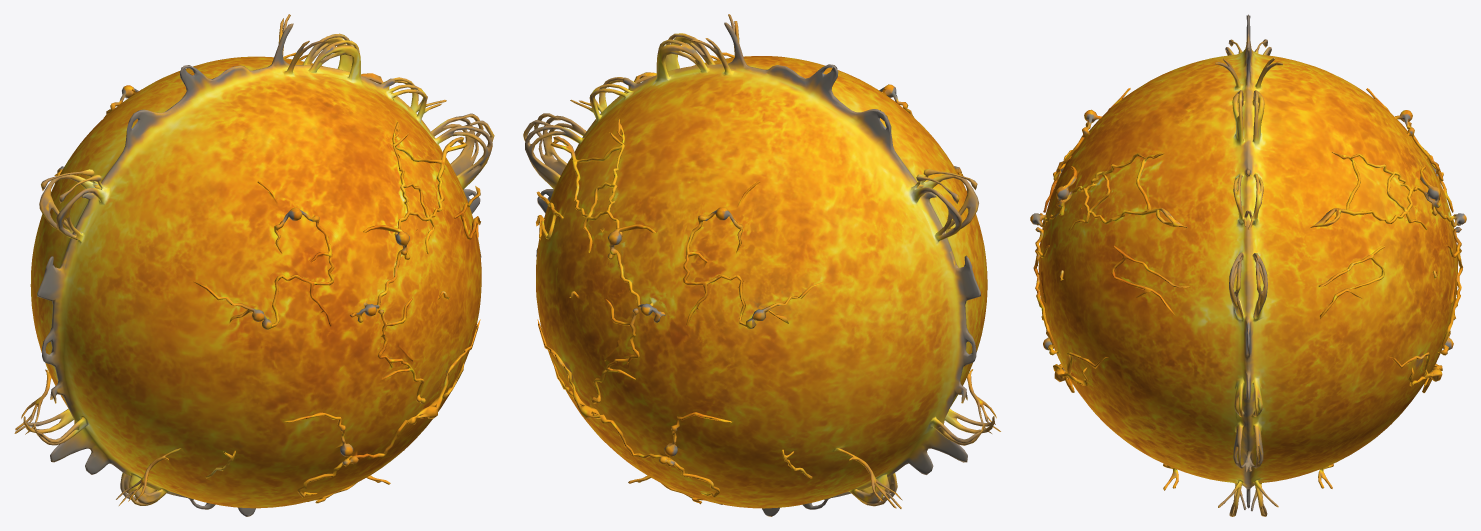
File: Planeta de Fuego.glb
3 views of the same model, side by side, from view 1: azimuth 30°, elevation 25°; view 2: azimuth 150°, elevation 25°; view 3: azimuth 270°, elevation 25° (orthographic). The views are drawn at different scales.
Parts seen in each view (by area): view 1: tripo_node_955c805f-49ba-4a21-9a87-28ff8daca8dc; view 2: tripo_node_955c805f-49ba-4a21-9a87-28ff8daca8dc; view 3: tripo_node_955c805f-49ba-4a21-9a87-28ff8daca8dc.
Part boxes in pixels (x1,y1,x2,y2): tripo_node_955c805f-49ba-4a21-9a87-28ff8daca8dc: [14, 14, 494, 516]; tripo_node_955c805f-49ba-4a21-9a87-28ff8daca8dc: [523, 14, 1000, 516]; tripo_node_955c805f-49ba-4a21-9a87-28ff8daca8dc: [1030, 14, 1466, 516].
Bounding box in the file's own units: 0.9787 × 0.98 × 0.8503.
1 material, 1 textured.
